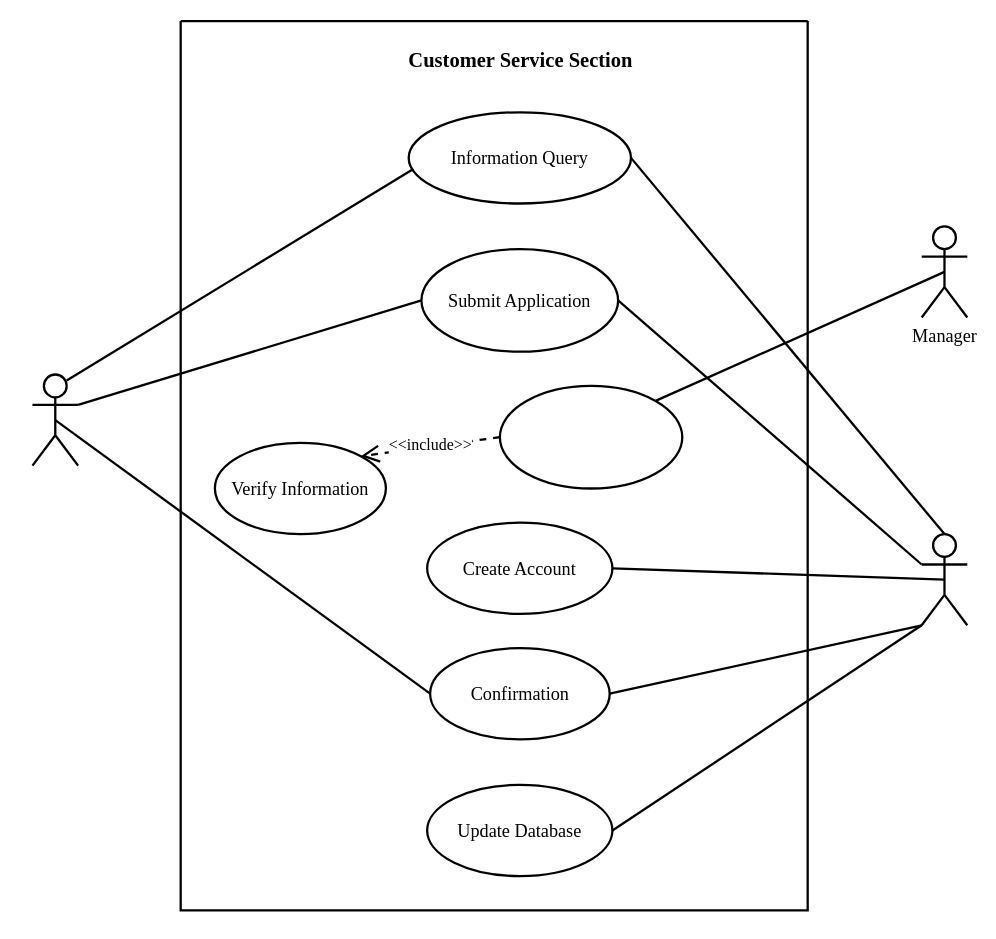
Image size: 996x939. Some labels were removed from this diagram. The shapes that lost their labels are listed below. From the top down, each one's centre as x and y in pixels, then its label:
At (55,419): "Customer".
At (590,436): "Application Approval".
At (944,579): "Officer".
